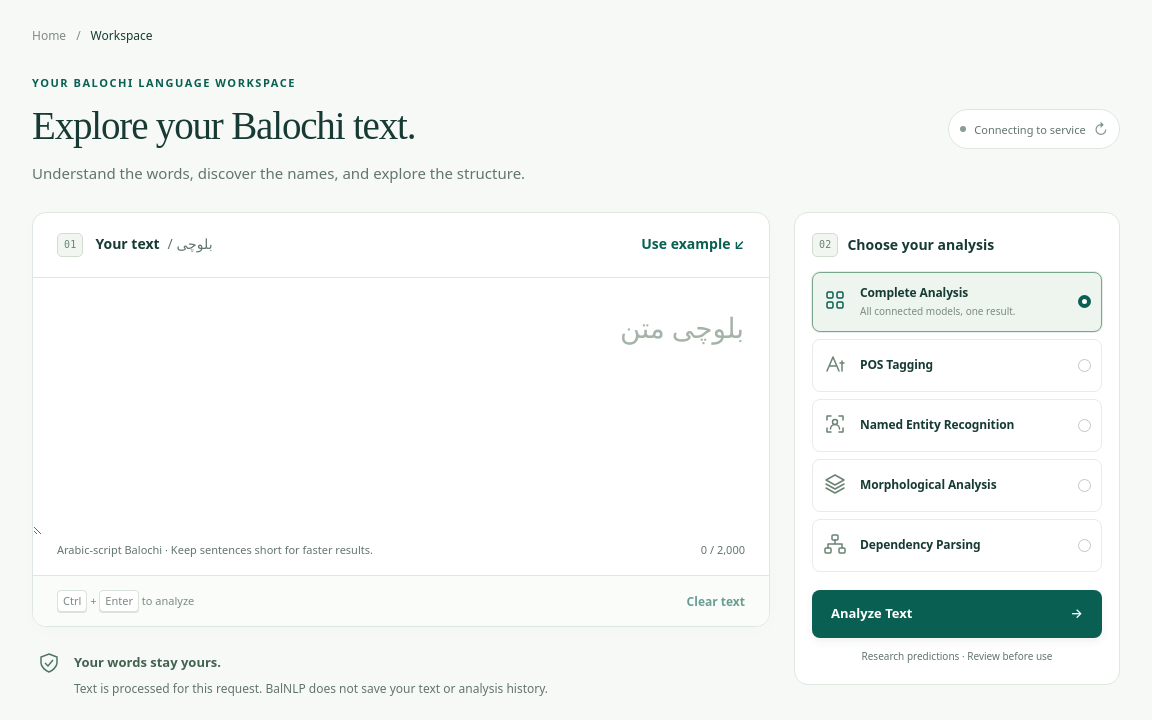
Test: analysis workspace › rejects blank input without contacting the API
What coordinates should you click on to do the following:
click the button "Analyze Text →"
I would click on:
 (872, 613)
Its box is x1=812 y1=590 x2=1102 y2=638.
(page scrolled)
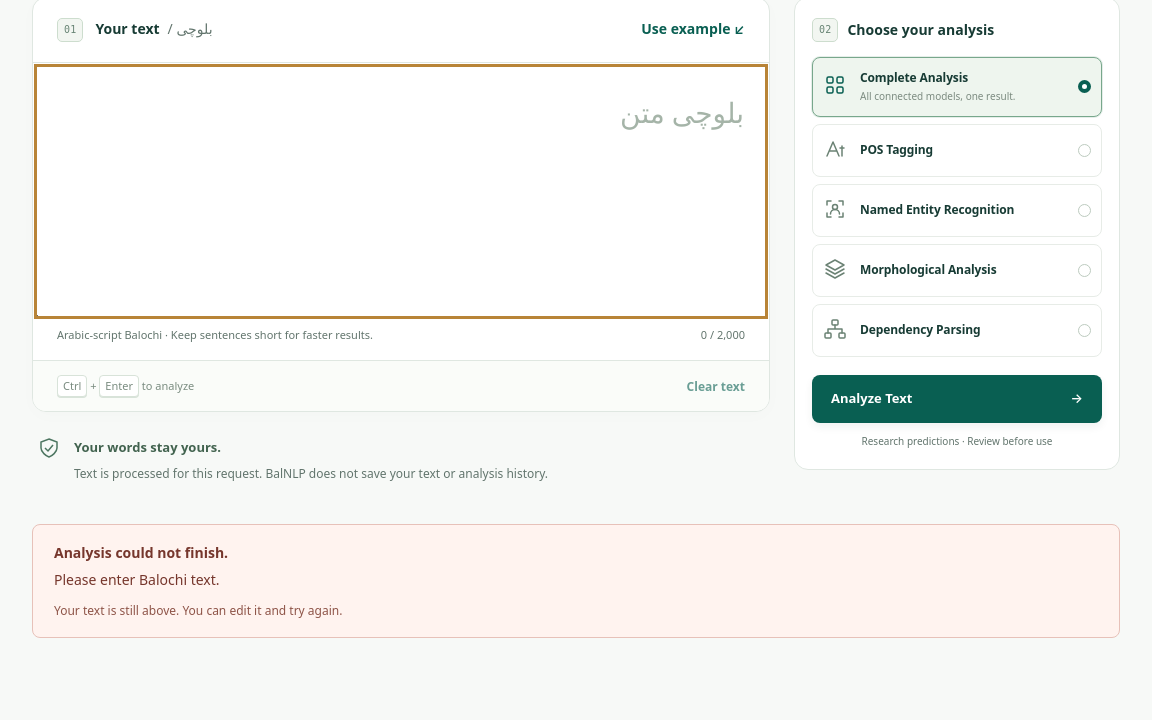
Expected: the message shows "Please enter Balochi text", x1=54 y1=570 x2=220 y2=589
